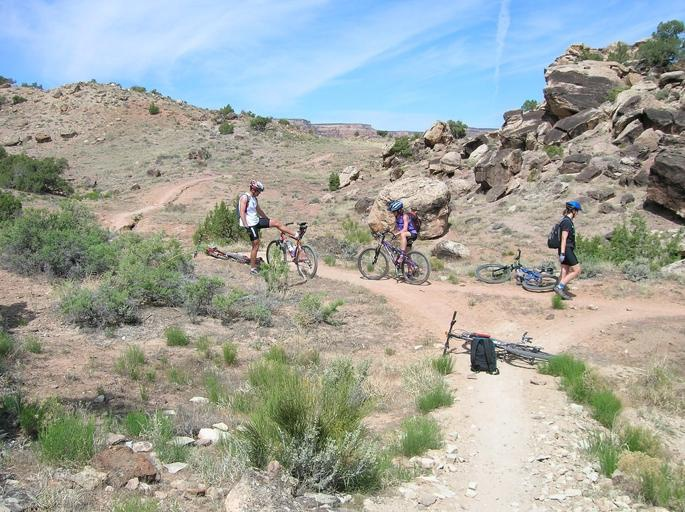non-vehicle: (440, 309, 560, 364), (356, 221, 432, 285), (474, 246, 559, 293), (264, 222, 317, 279), (192, 232, 260, 265)
